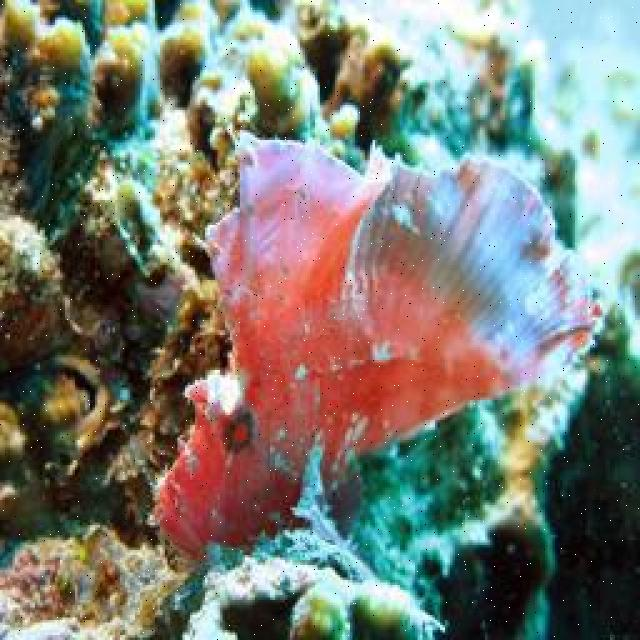fish: (145, 129, 606, 563)
